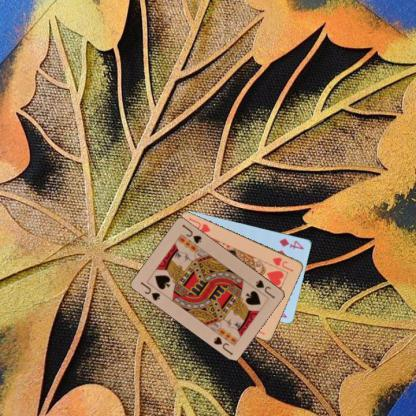4d: (277, 236, 305, 250)
Jh: (270, 254, 294, 274)
Js: (138, 279, 162, 302), (253, 277, 276, 300)
